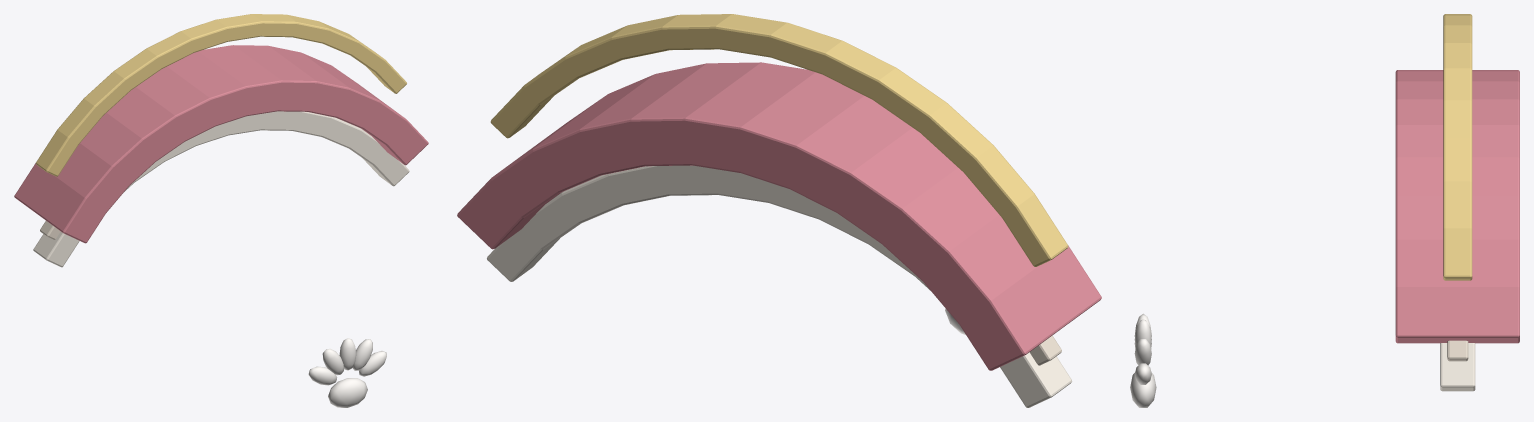
Rendered from opera_balcony_fascia.glb.
The picture shows the model from 3 angles, left to right: view 1: azimuth 30°, elevation 25°; view 2: azimuth 150°, elevation 25°; view 3: azimuth 270°, elevation 25°; orthographic projection. The views are drawn at different scales.
Parts seen in each view (by area): view 1: opera_balcony_fascia.001; view 2: opera_balcony_fascia.001; view 3: opera_balcony_fascia.001.
Boxes of the visible parts, bbox=[...] form: opera_balcony_fascia.001: bbox=[14, 14, 428, 407]; opera_balcony_fascia.001: bbox=[457, 14, 1101, 407]; opera_balcony_fascia.001: bbox=[1130, 14, 1519, 407].
Size of the model in its own units: 12.69 by 9.67 by 9.42.
